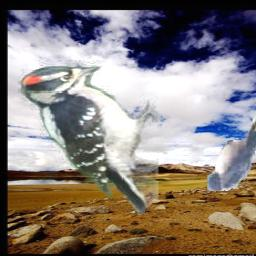Swallow: (207, 111, 256, 192)
Woodpecker: (19, 61, 160, 216)
